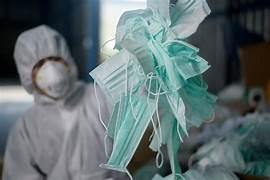Mask: (90, 0, 215, 178), (102, 96, 155, 172), (90, 50, 144, 104), (179, 76, 216, 126), (192, 136, 244, 171), (167, 0, 210, 39), (166, 40, 209, 79), (161, 113, 182, 178), (35, 61, 70, 98), (152, 166, 238, 179), (166, 91, 187, 134), (167, 119, 181, 179), (183, 166, 238, 179), (147, 0, 170, 25), (161, 113, 174, 144)
